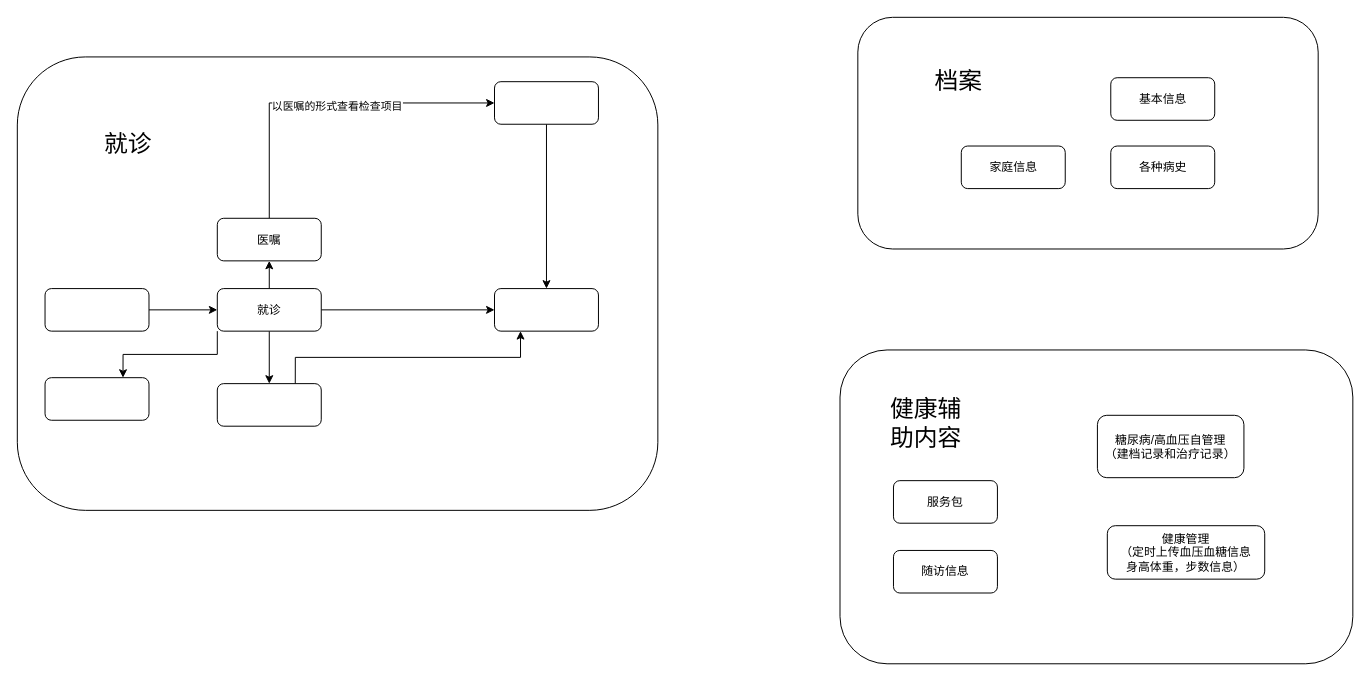
Some shapes in this 1370 by 681 pixel diagram are drawn without their labels. Here are the shapes that lost their labels. From the top down, the centre of each, then its label:
At (x=546, y=102): "检验检查申请".
At (x=96, y=309): "挂号".
At (x=546, y=309): "检验检查结果".
At (x=96, y=398): "中医体质辨识".
At (x=268, y=404): "体检".
